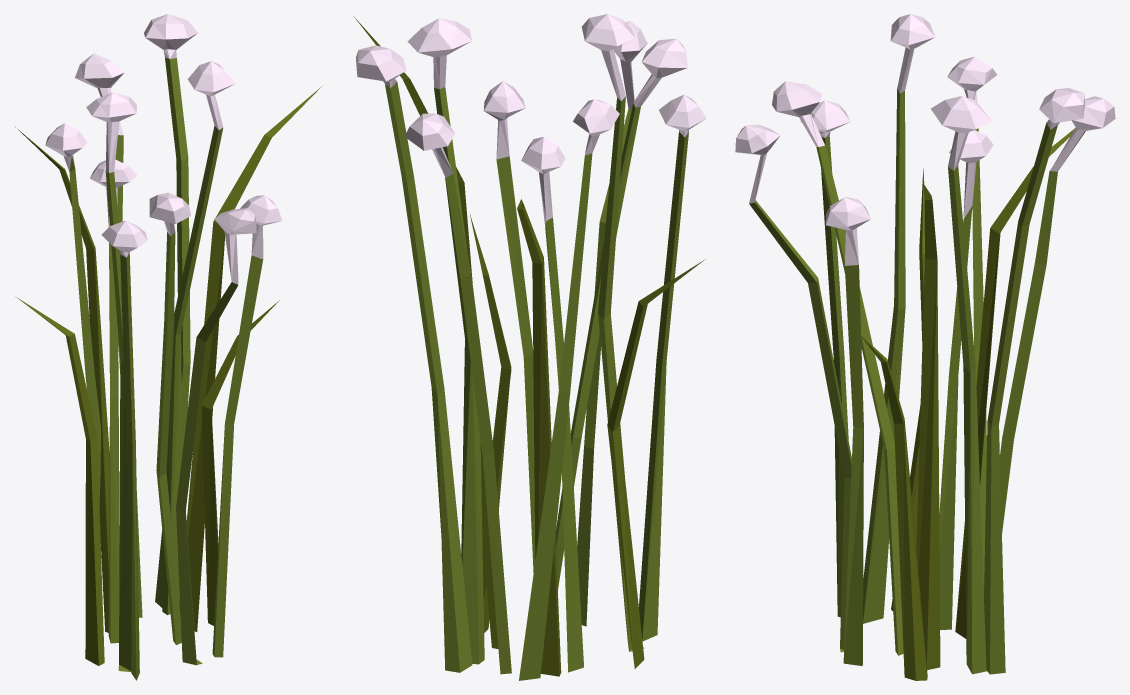
The model's file is Flower 2_2.fbx.
3 views of the same model, side by side, from view 1: azimuth 30°, elevation 25°; view 2: azimuth 150°, elevation 25°; view 3: azimuth 270°, elevation 25° (orthographic). The views are drawn at different scales.
Visible parts, largest first — view 1: Flower 2_2; view 2: Flower 2_2; view 3: Flower 2_2.
Boxes of the visible parts, bbox=[...] form: Flower 2_2: bbox=[15, 14, 321, 680]; Flower 2_2: bbox=[353, 14, 706, 680]; Flower 2_2: bbox=[735, 14, 1115, 680].
Size of the model in its own units: 0.2938 by 0.5114 by 0.29.
